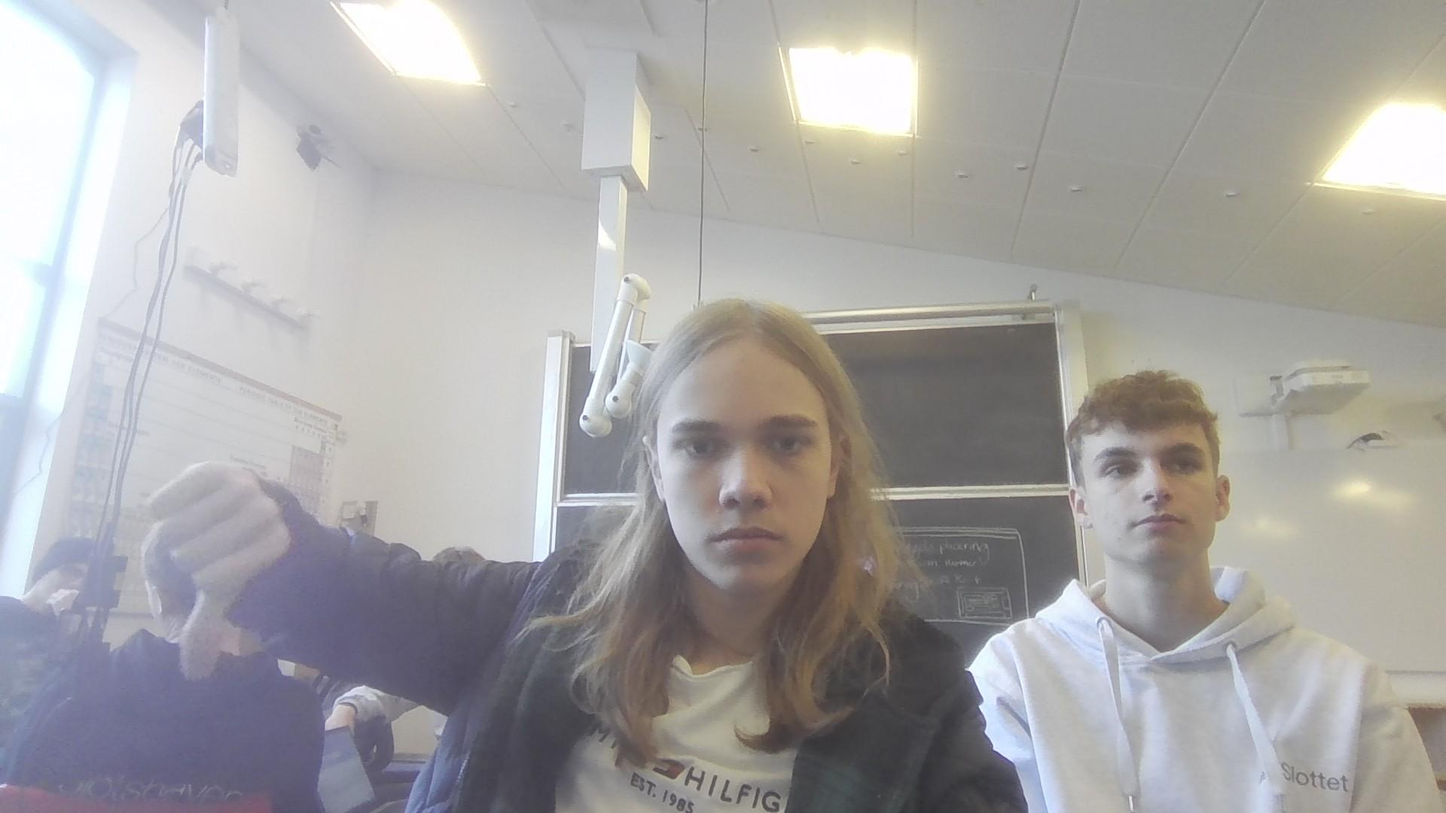thumbs down: (133, 443, 297, 689)
